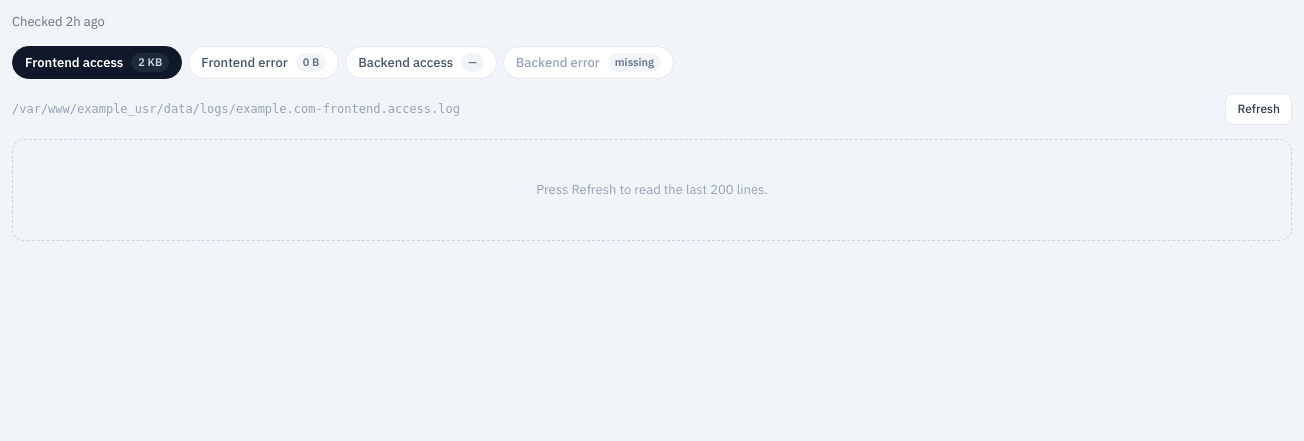
чтение хвоста лога › шапка консоли называет число строк и свежий размер, а срез помечен
Click the button "Refresh" at (1259, 109), box [1226,93,1292,125]
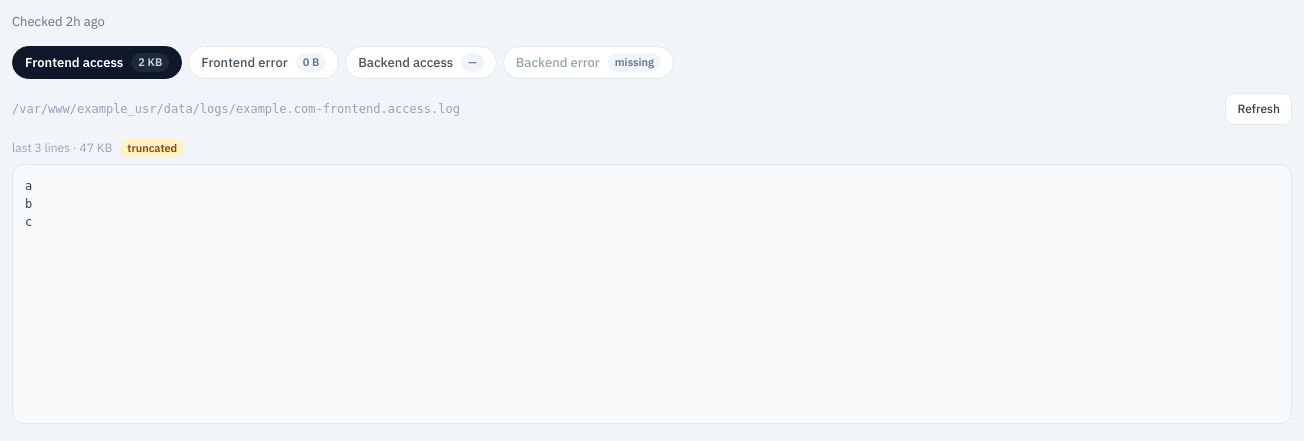
expect the text "last 3 lines · 47 KB" is shown: met, box [12,139,112,157]
expect the text "truncated" is shown: met, box [120,139,184,158]
